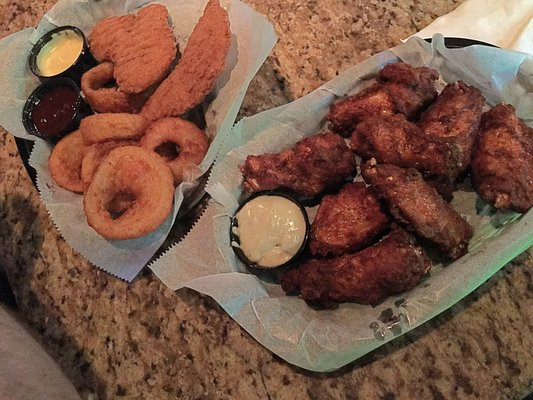salad: (84, 145, 175, 241), (138, 117, 209, 186)
